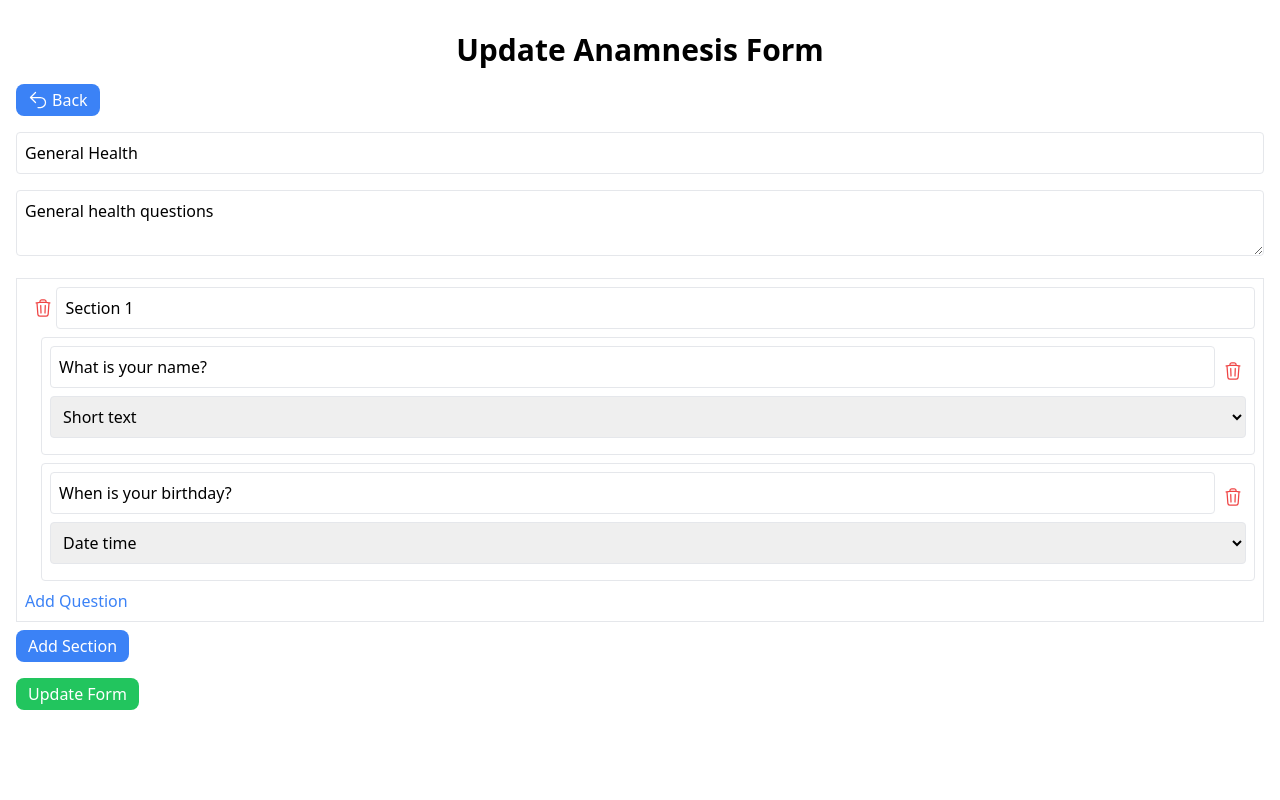
Test case: UpdateAnamnesisForm › adds a new question to a section
Click the button "Add Question" at (76, 601), box [25, 589, 128, 613]
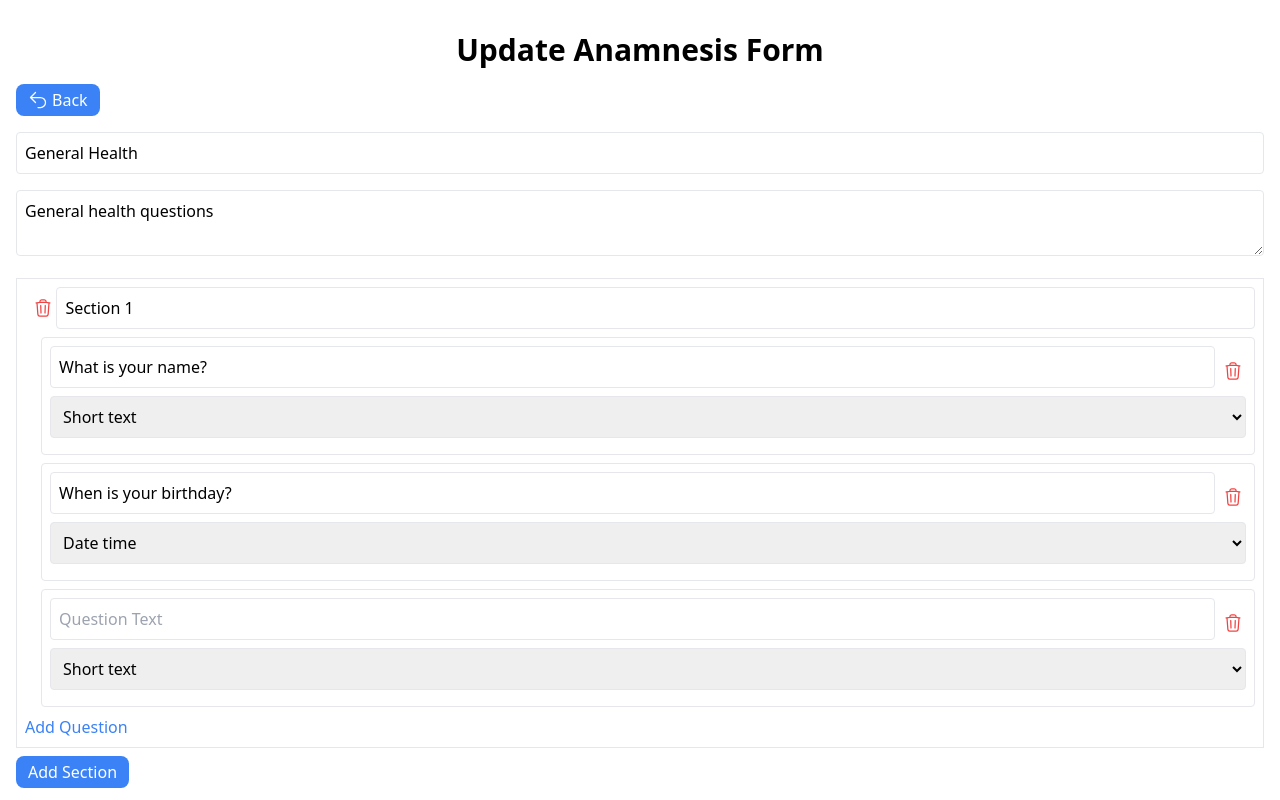
Expected: the number of fields with placeholder "Question Text" is 3, [50, 346, 1215, 388]; [50, 472, 1215, 514]; [50, 598, 1215, 640]
